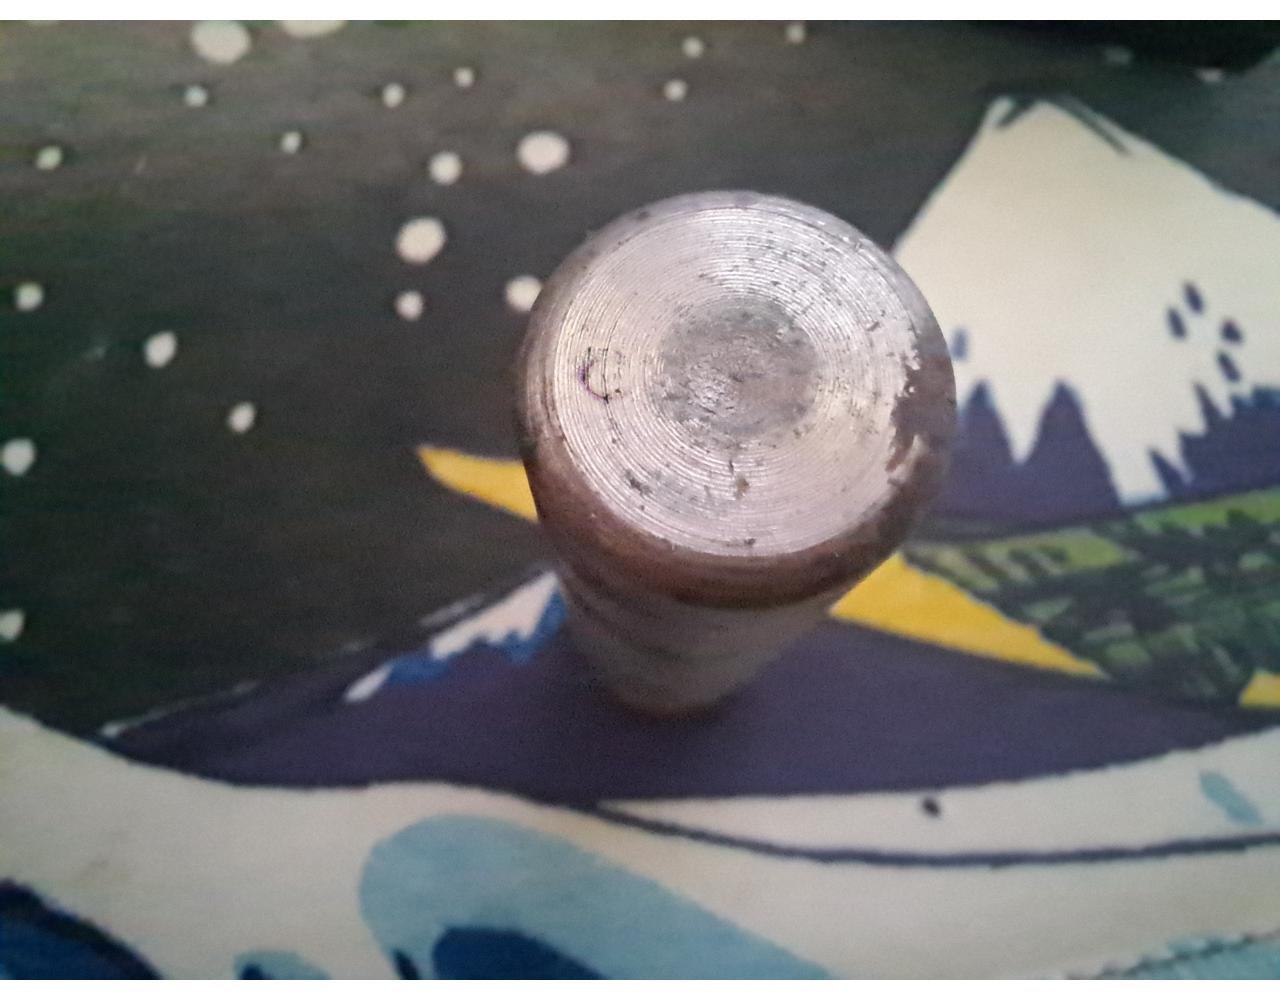defect: (570, 354, 647, 409)
planson: (510, 188, 958, 718)
